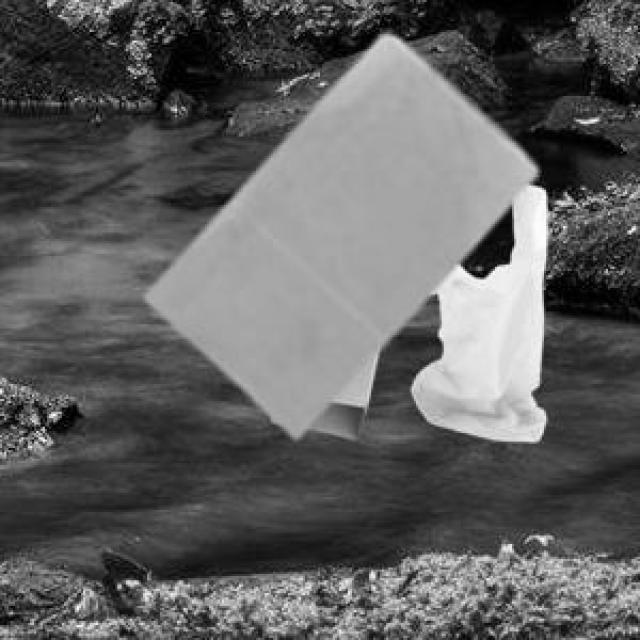paper: (143, 32, 531, 433), (301, 348, 373, 435)
